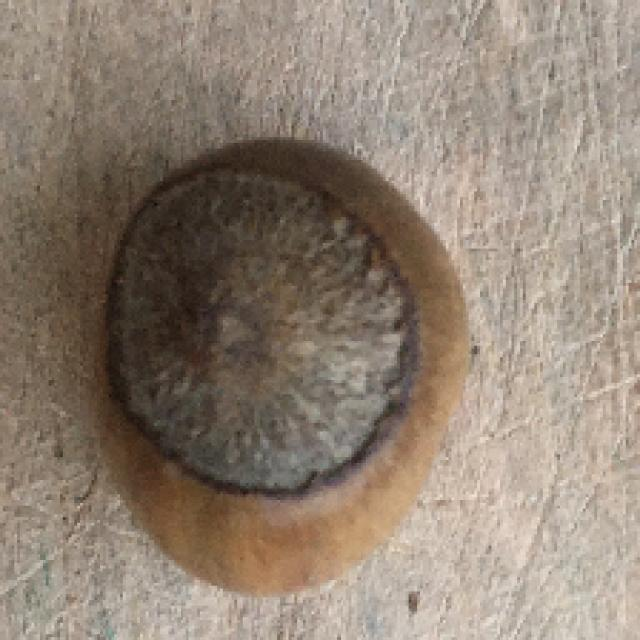DamagedHazelnut: (82, 135, 474, 594)
